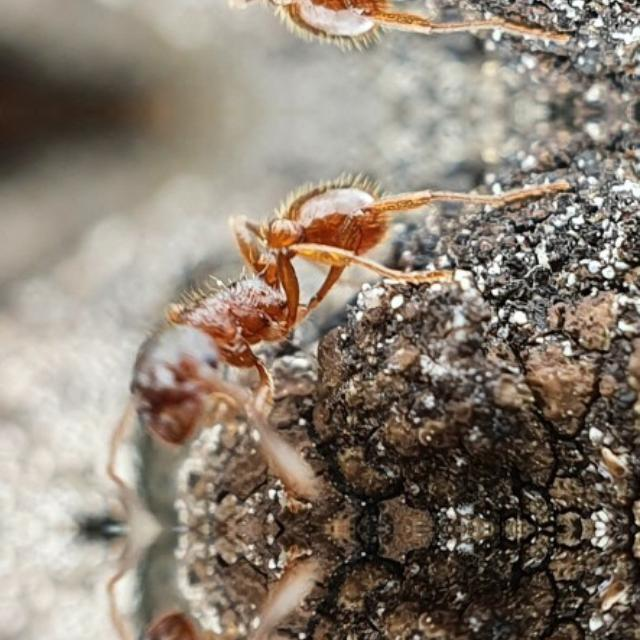Myrmica: (99, 180, 437, 446)
